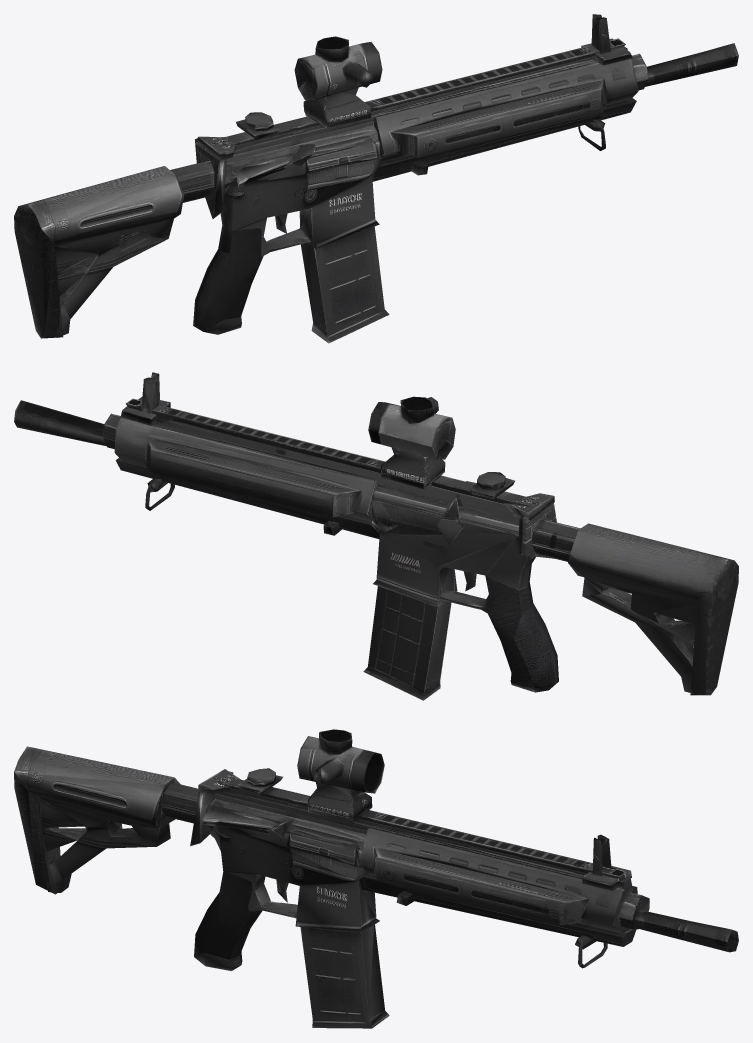
File: m27-rifle-meshy-t2-web-v1.glb
The picture shows the model from 3 angles, top to bottom: view 1: azimuth 30°, elevation 25°; view 2: azimuth 150°, elevation 25°; view 3: azimuth 330°, elevation 25°; orthographic projection.
Size of the model in its own units: 1 by 0.3916 by 0.1094.
Materials: 1 (1 with a texture image).
